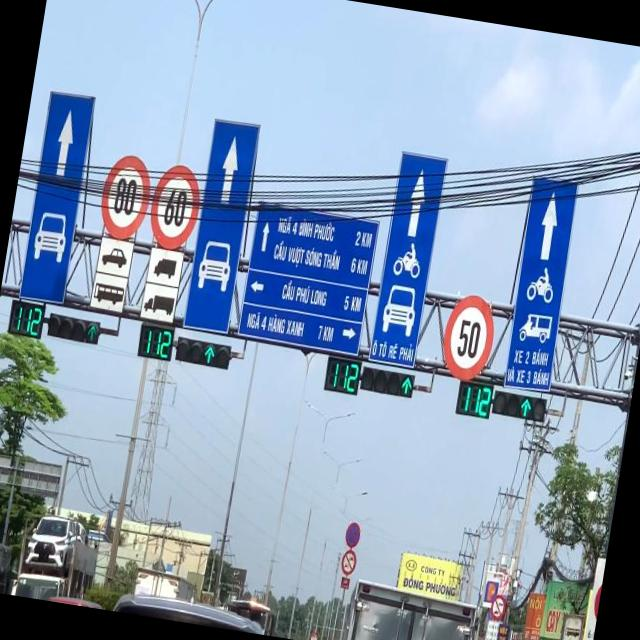P-127: (437, 293, 498, 382)
